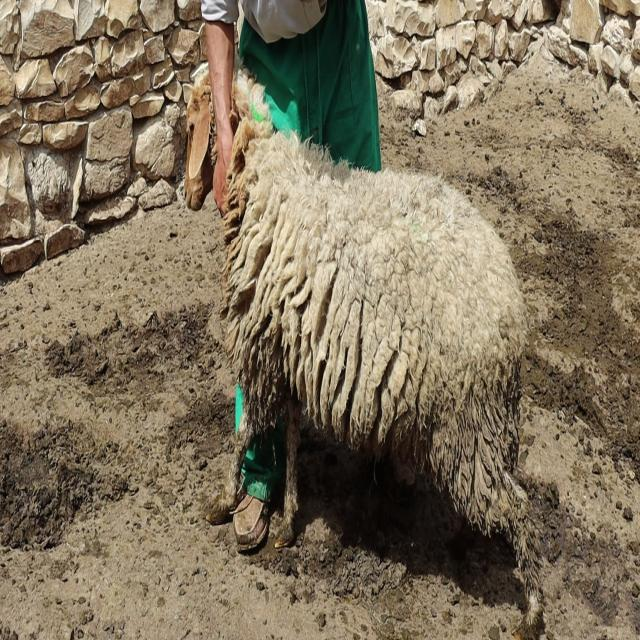Score_4: (207, 70, 544, 636)
